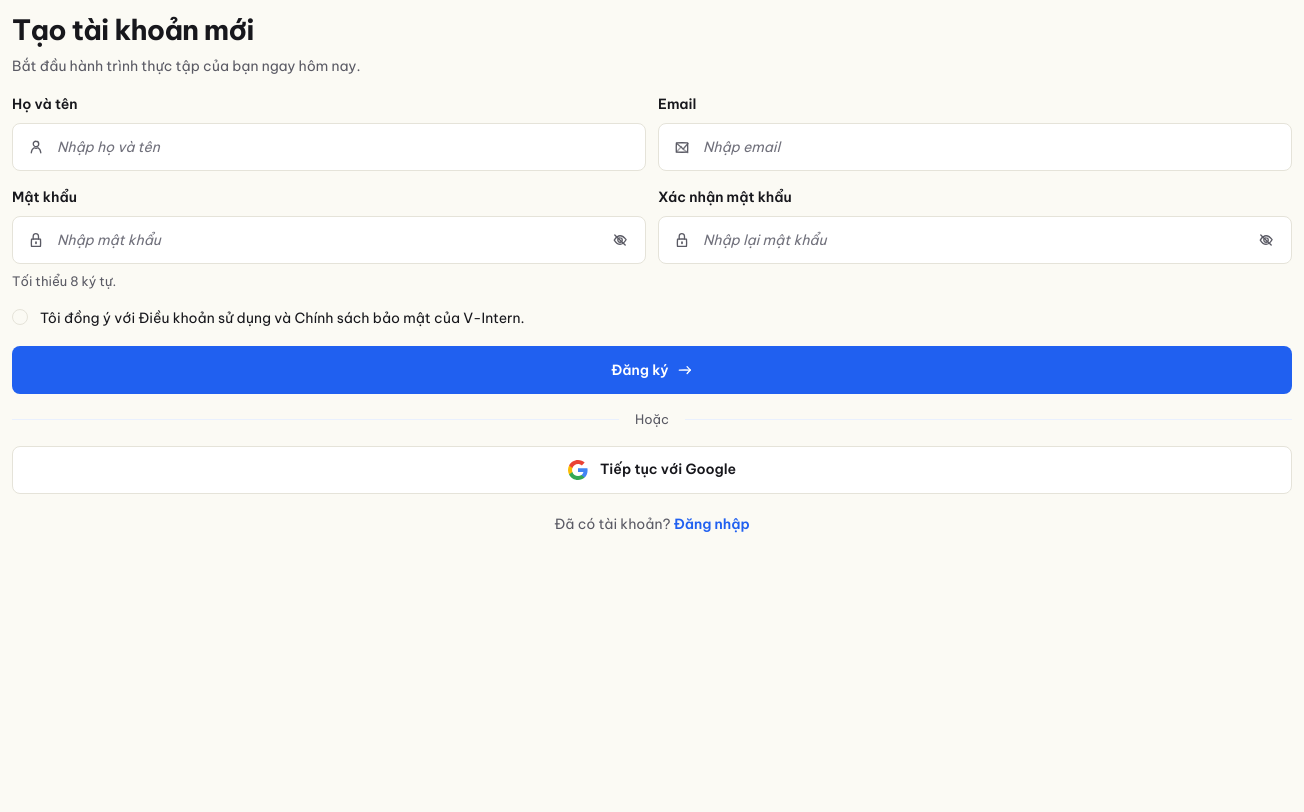
Test: RegisterForm › chưa đồng ý điều khoản → báo lỗi và không gửi
The width and height of the screenshot is (1304, 812).
Type "Nguyễn Văn A" into the field labelled "Họ và tên" at (329, 147), box [12,123,646,171]
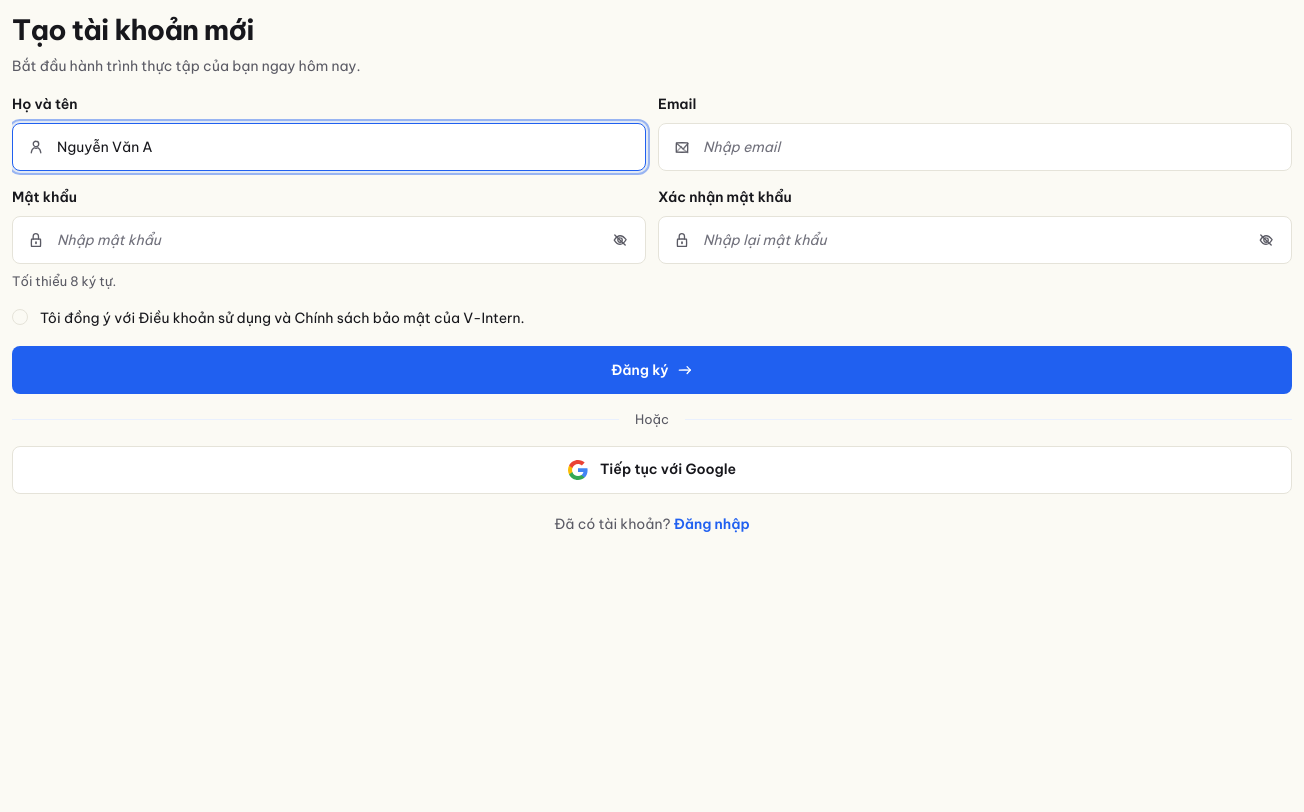
Type "sv@vintern.vn" into the field labelled "Email" at (975, 147), box [658,123,1292,171]
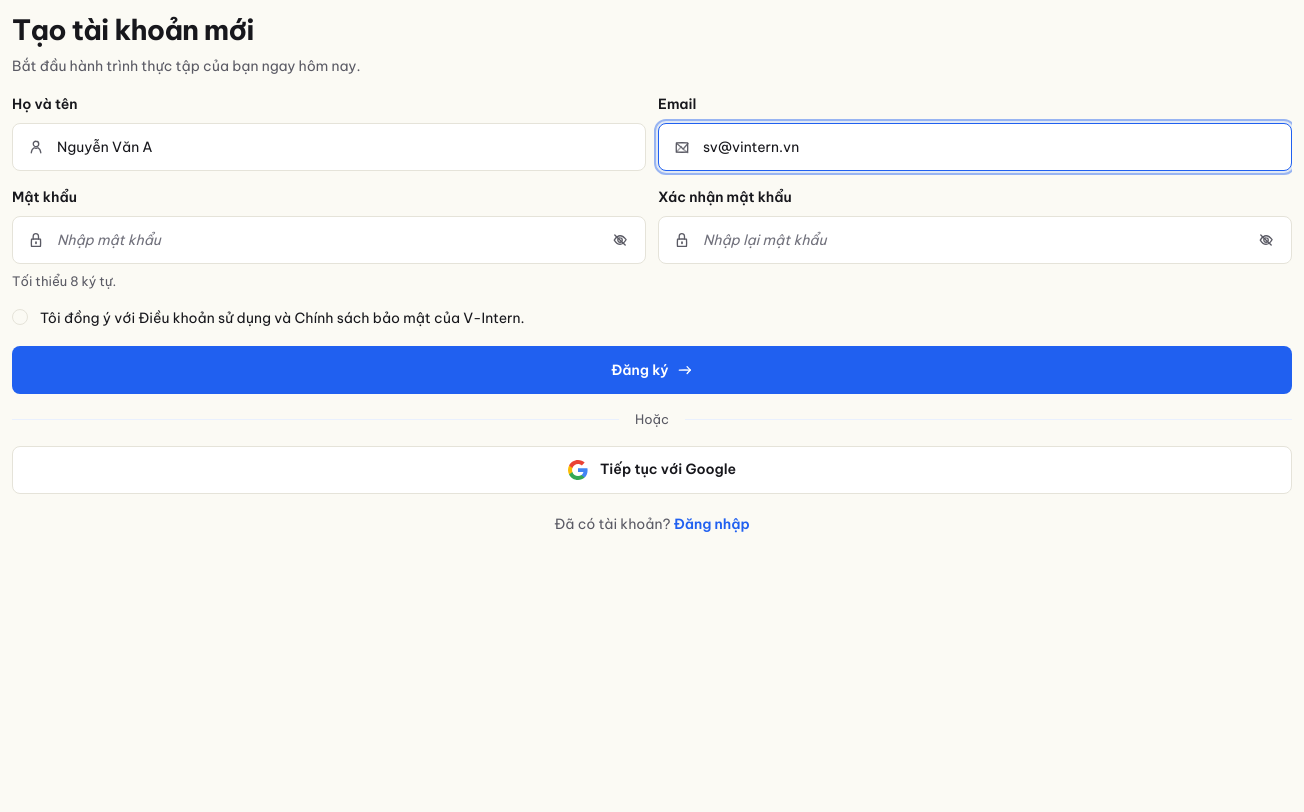
Type "matkhau123" into the password field labelled "Mật khẩu" at (329, 240), box [12,216,646,264]
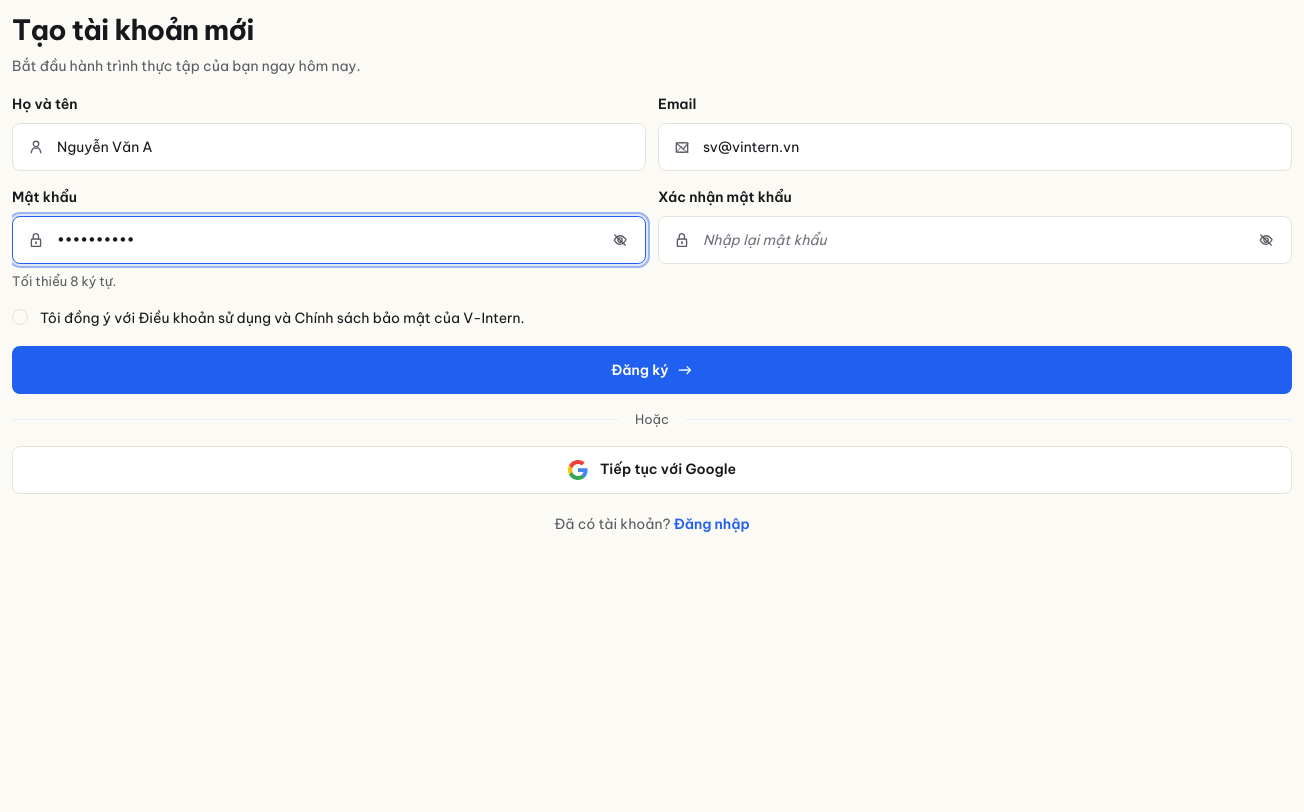
Type "matkhau123" into the password field labelled "Xác nhận mật khẩu" at (975, 240), box [658,216,1292,264]
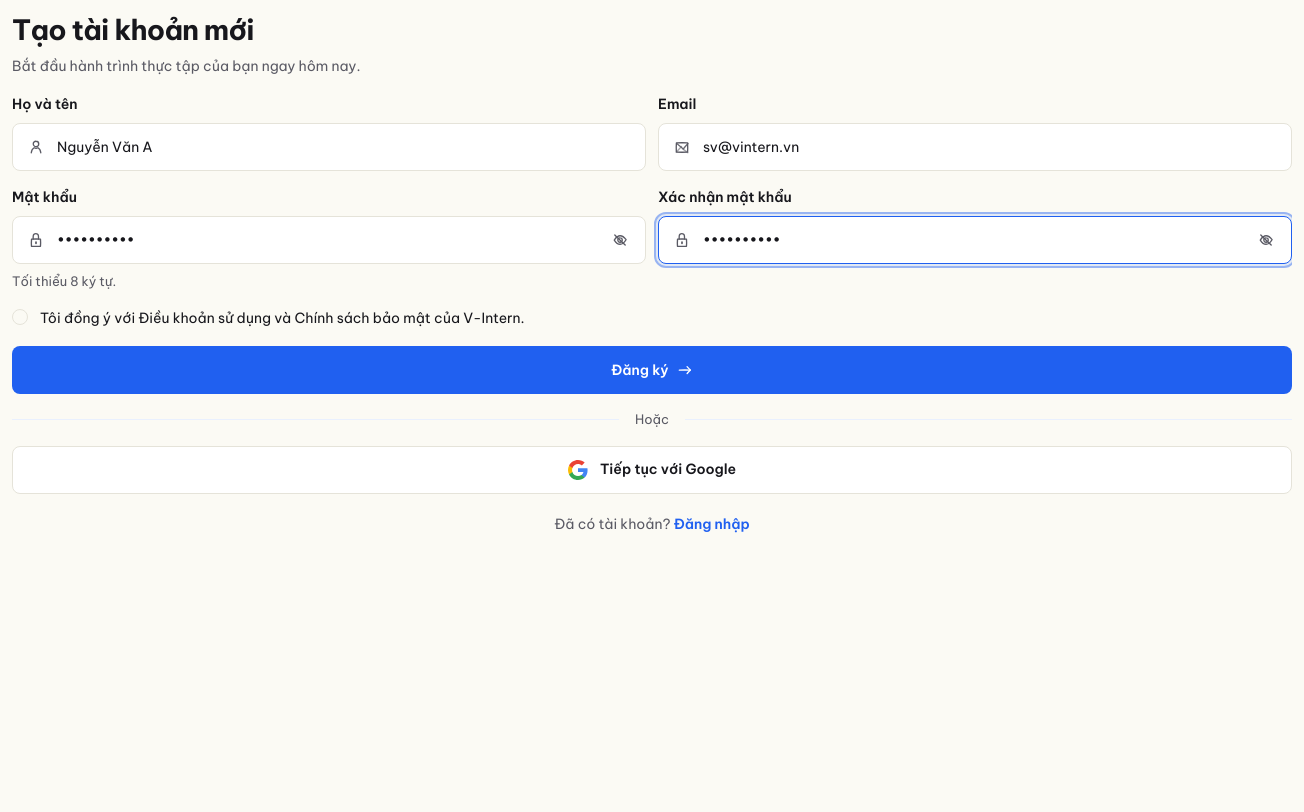
Click the button "Đăng ký" at (652, 370), box [12,346,1292,394]
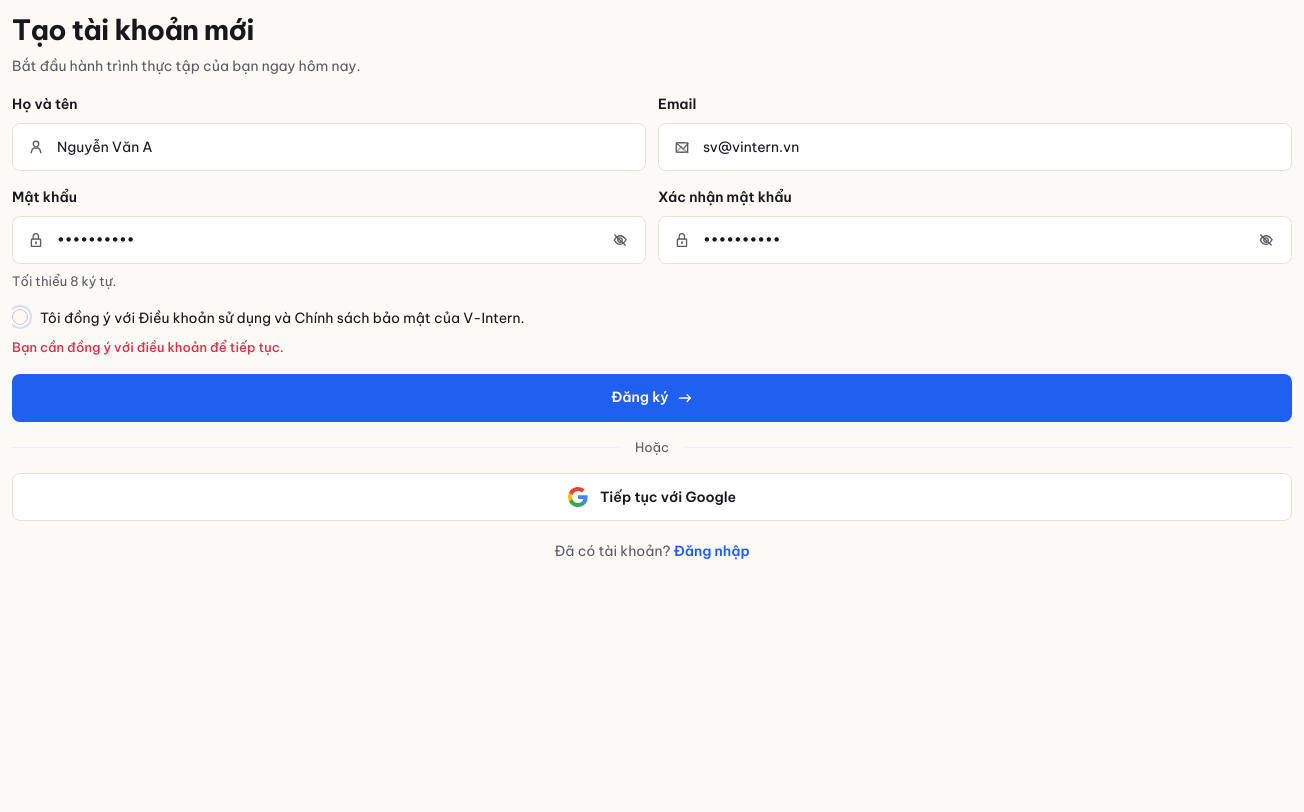
Result: the text "Bạn cần đồng ý với điều khoản để tiếp tục." is shown at [12,339,284,355]
